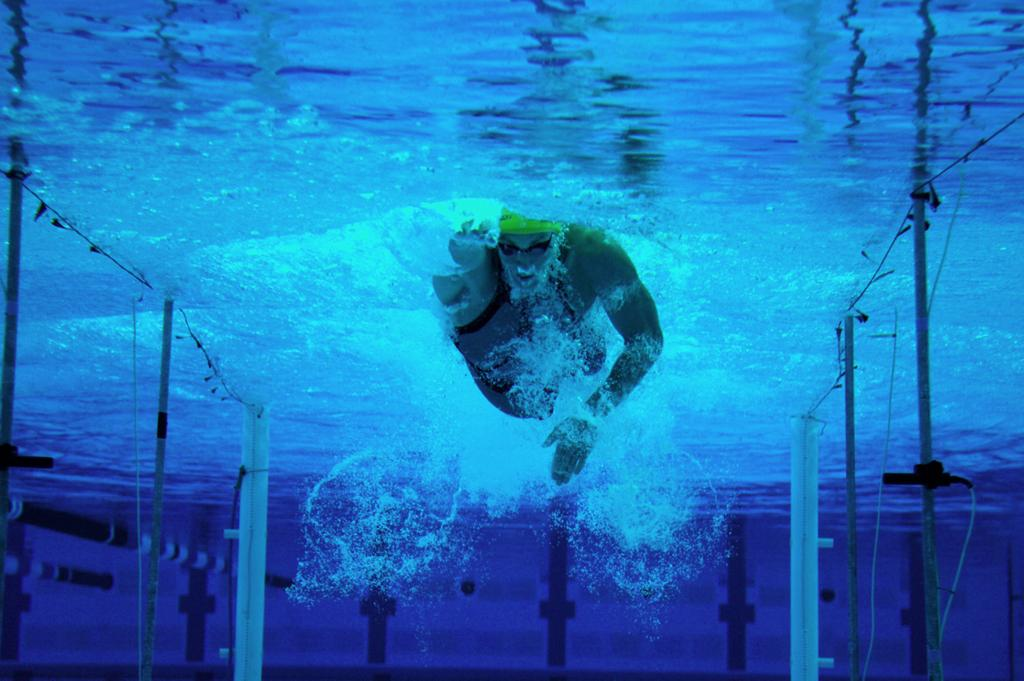face: (496, 224, 560, 294)
